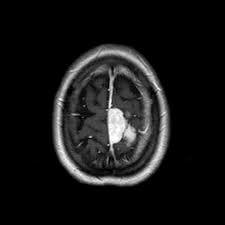Tumour-Meningioma: (100, 102, 141, 158)
